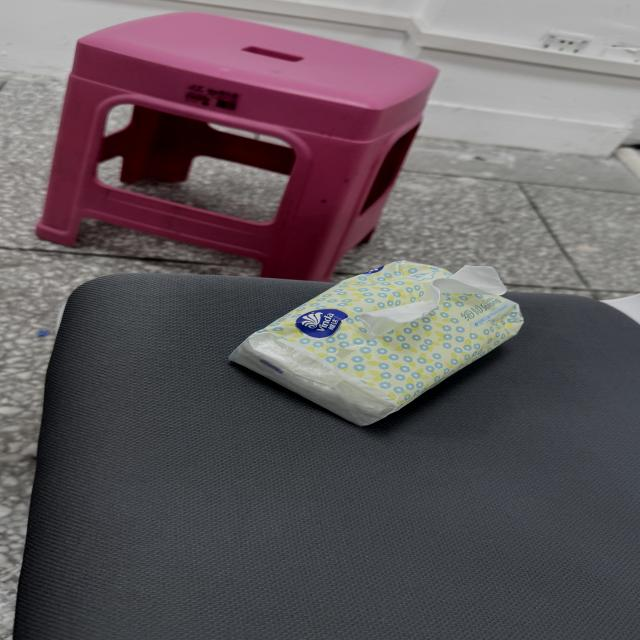tissue: (231, 262, 522, 425)
